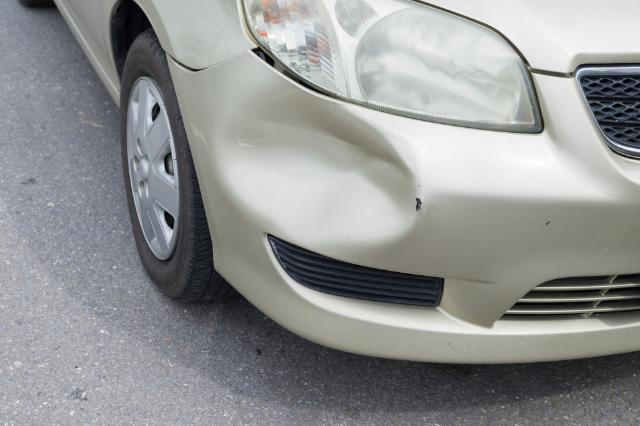dent: (220, 92, 421, 245)
dislocated part: (245, 46, 334, 99)
